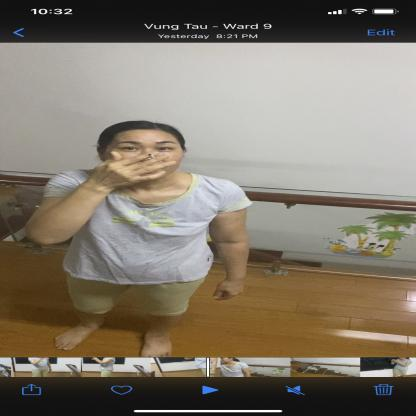cigarette: (146, 152, 156, 160)
person: (29, 116, 256, 356), (220, 358, 252, 378)
